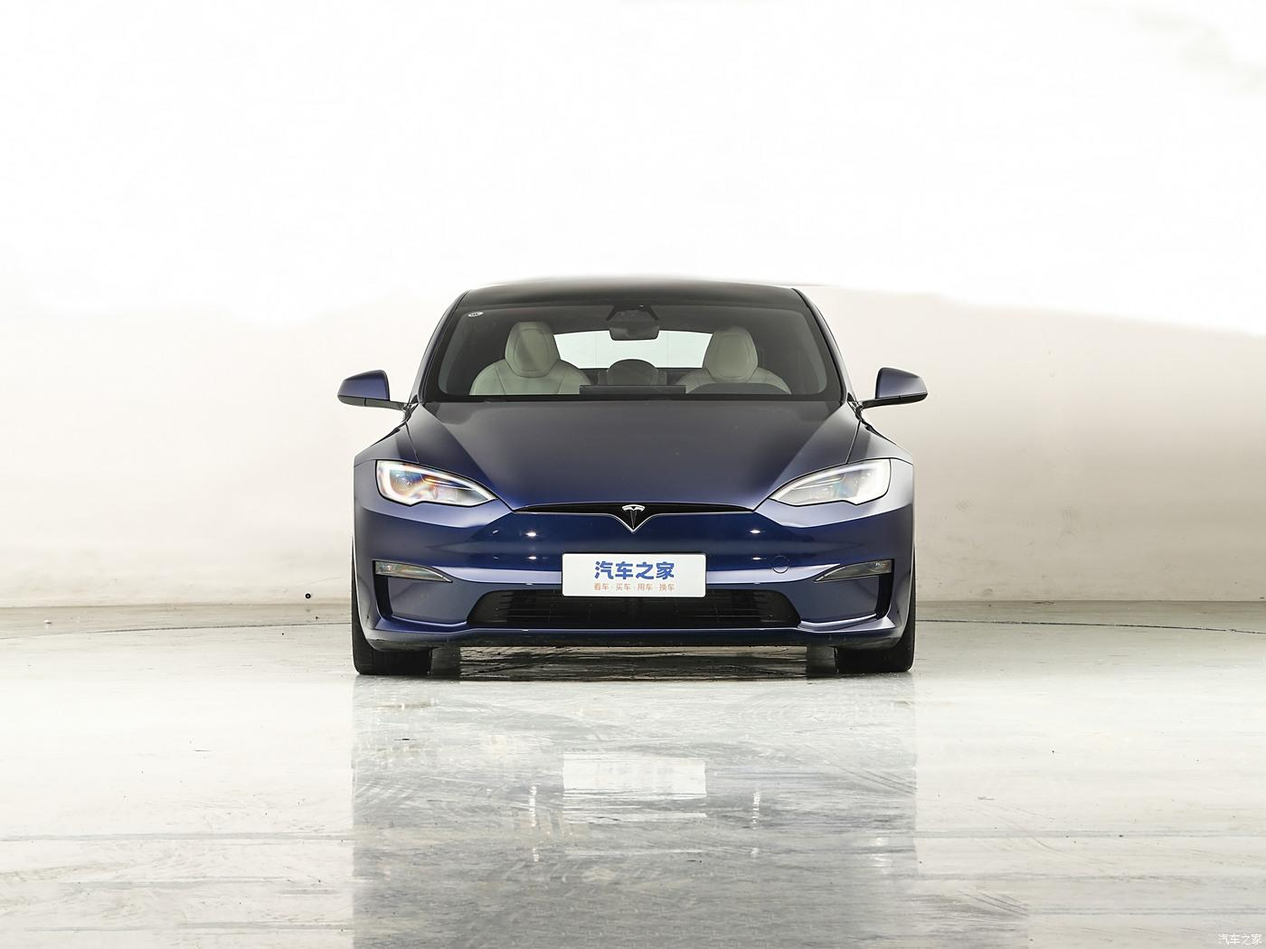Tesla: (621, 503, 646, 530)
